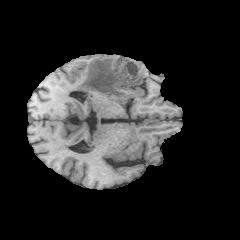glioma: (73, 56, 147, 98)
